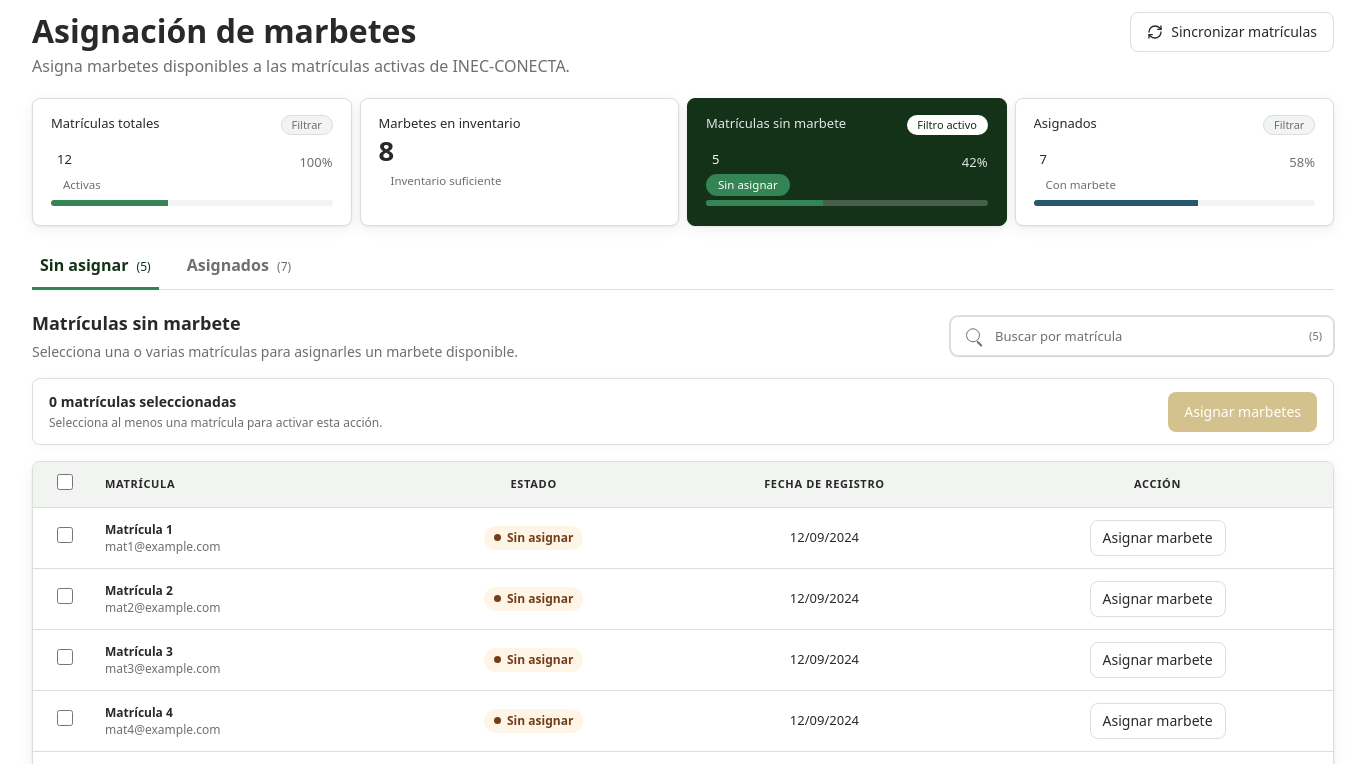
Scenario: AsociarPageClient › regression: clicking the "Asignados" tab loads the assigned rows (P1 fix verification)
The image size is (1366, 764).
// Action under test: click the "Asignados" tab.
What coordinates should you click on to do the following:
click the tab with test id "tab-assigned"
I would click on:
 (239, 266)
Its box is x1=179 y1=242 x2=299 y2=290.
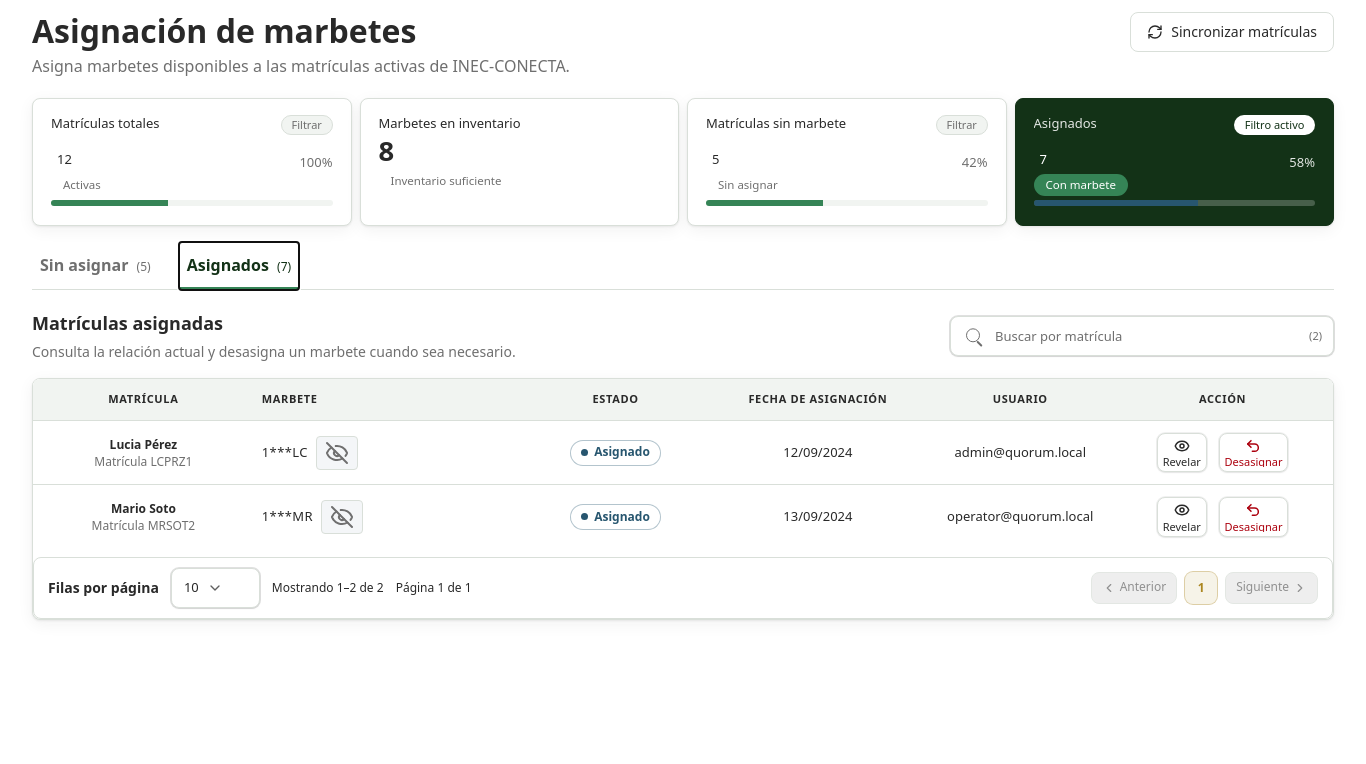
Result: the cell with test id "assigned-matricula-7001" shows "LCPRZ1" at x1=94 y1=453 x2=192 y2=470
Result: the cell with test id "assigned-matricula-7002" shows "MRSOT2" at x1=92 y1=517 x2=195 y2=534
